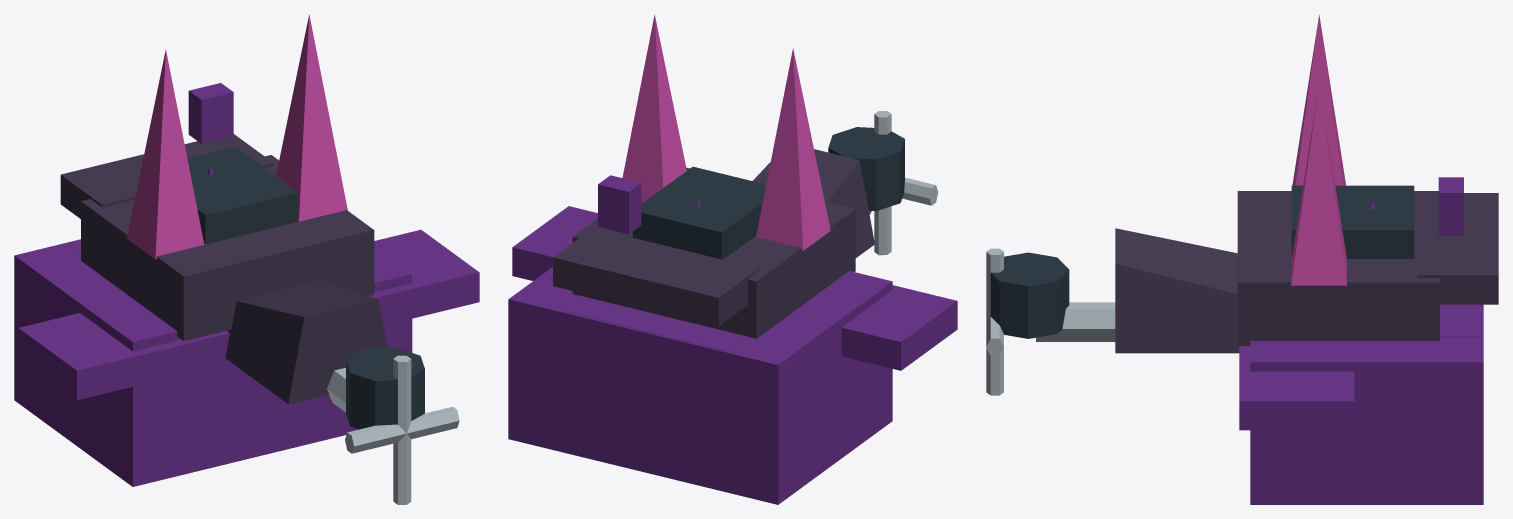
File: air-transport.obj
3 views of the same model, side by side, from view 1: azimuth 30°, elevation 25°; view 2: azimuth 150°, elevation 25°; view 3: azimuth 270°, elevation 25° (orthographic). The views are drawn at different scales.
Parts seen in each view (by area): view 1: air; view 2: air; view 3: air.
Part boxes in pixels (x1,y1,x2,y2): air: (14,15,479,504); air: (508,15,957,504); air: (986,15,1498,504).
Bounding box in the file's own units: 1.63 × 1.53 × 1.82.
